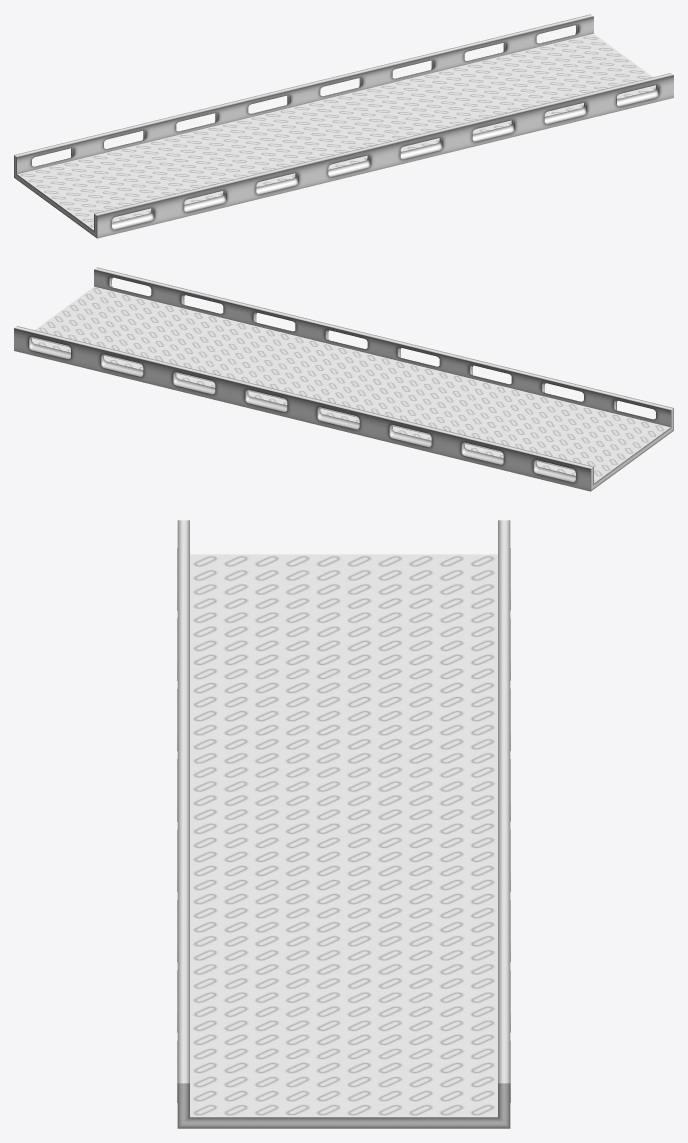
Rendered from Grating.fbx.
3 renders of one model, top to bottom at view 1: azimuth 30°, elevation 25°; view 2: azimuth 150°, elevation 25°; view 3: azimuth 270°, elevation 25°, orthographic. The views are drawn at different scales.
Parts seen in each view (by area): view 1: Grating; view 2: Grating; view 3: Grating.
Boxes of the visible parts, left/top/right/bottom form: Grating: left=14, top=14, right=673, bottom=238; Grating: left=14, top=267, right=673, bottom=491; Grating: left=177, top=520, right=510, bottom=1128.
Size of the model in its own units: 4 by 0.15 by 1.
